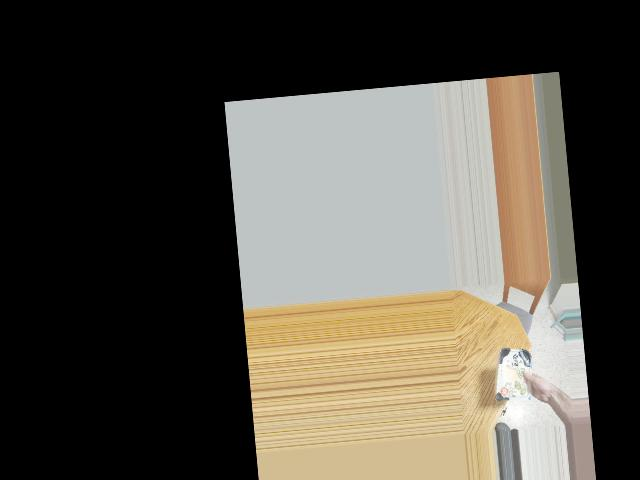cheese: (497, 346, 533, 398)
